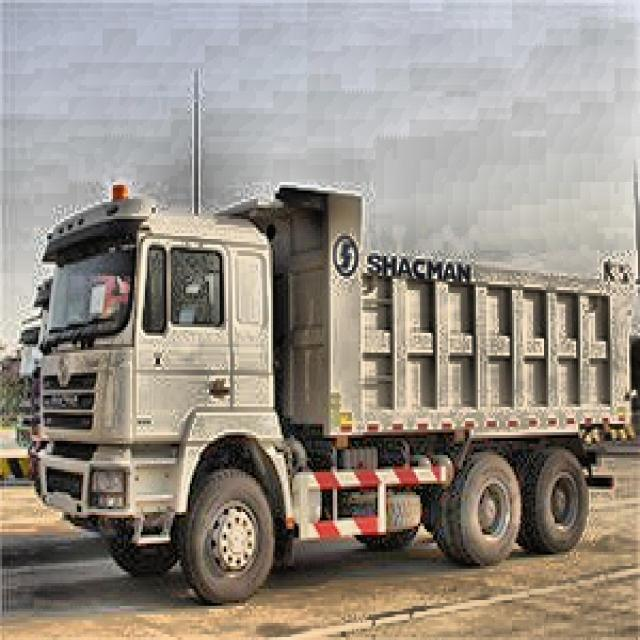dump_truck: (30, 181, 636, 606)
